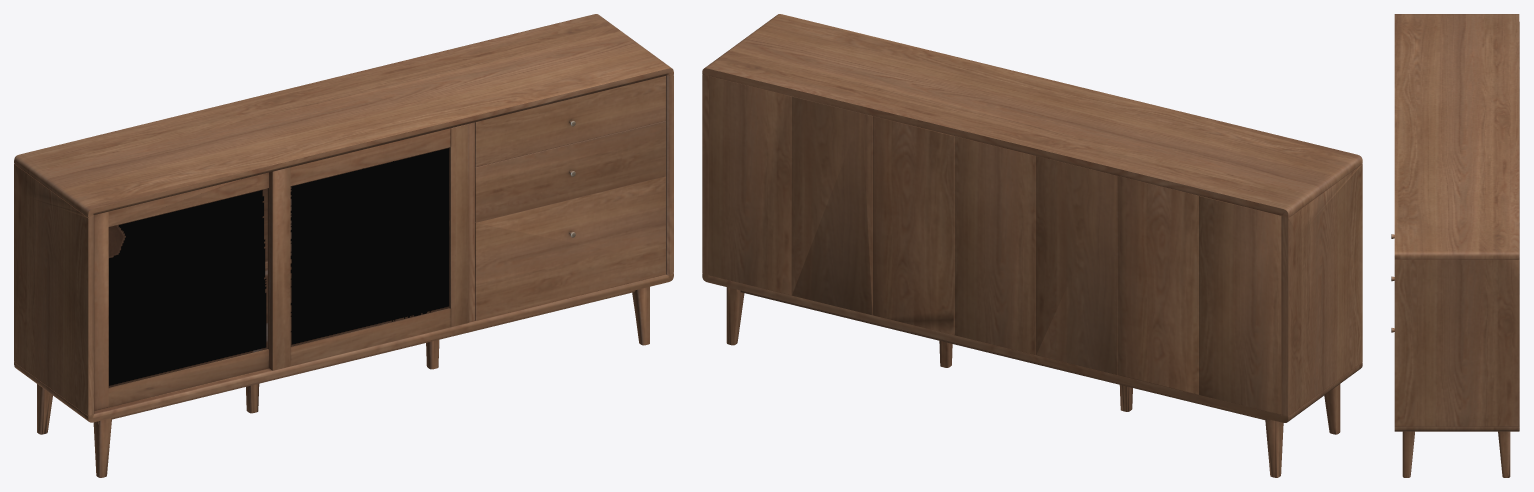
Rendered from Sideboard_Side_Cabinet_Console_7468350f-4184-5ca1-b39b-6a88fe510827.glb.
3 views of the same model, side by side, from view 1: azimuth 30°, elevation 25°; view 2: azimuth 150°, elevation 25°; view 3: azimuth 270°, elevation 25° (orthographic). The views are drawn at different scales.
Parts seen in each view (by area): view 1: raw_model.obj; view 2: raw_model.obj; view 3: raw_model.obj.
Boxes of the visible parts, left/top/right/bottom form: raw_model.obj: left=14, top=14, right=673, bottom=477; raw_model.obj: left=702, top=14, right=1362, bottom=477; raw_model.obj: left=1391, top=14, right=1519, bottom=477.
Size of the model in its own units: 1.8 by 0.8106 by 0.4058.
1 material, 1 textured.
